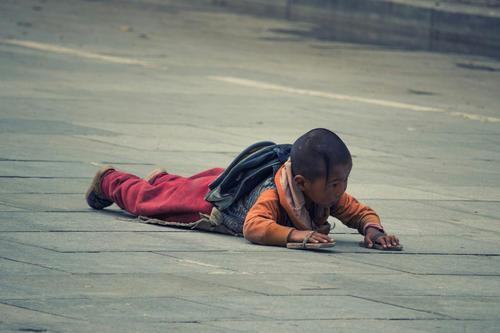Fall-Detected: (80, 119, 403, 251)
